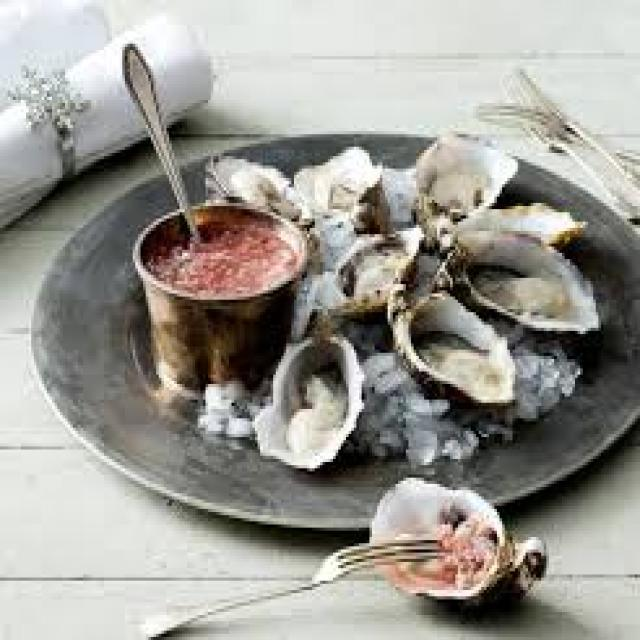Oyster-Open: (452, 204, 599, 332), (255, 336, 364, 469), (392, 292, 515, 404), (416, 132, 518, 251), (328, 226, 422, 319), (294, 146, 382, 218), (205, 156, 301, 221)
